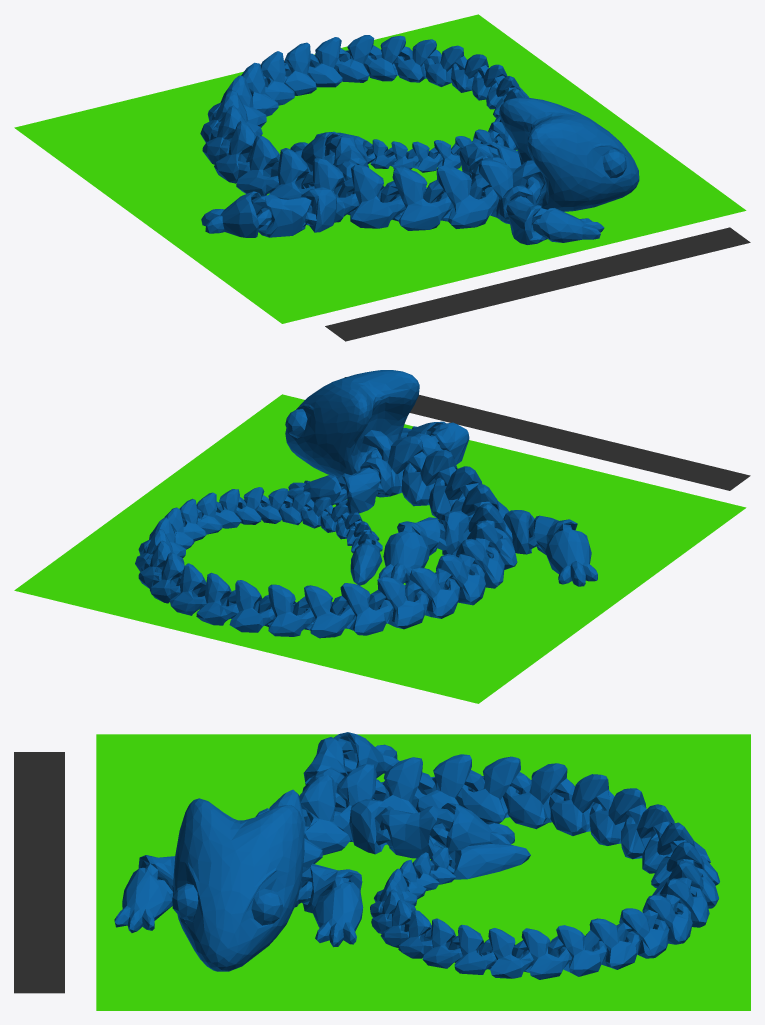
Rendered from BigGecko_X1.glb.
3 views of the same model, one above another, from view 1: azimuth 30°, elevation 25°; view 2: azimuth 150°, elevation 25°; view 3: azimuth 270°, elevation 25° (orthographic). The views are drawn at different scales.
Visible parts, largest first — view 1: Plane, DRAGON_001, Plane.001; view 2: Plane, DRAGON_001, Plane.001; view 3: Plane, DRAGON_001, Plane.001.
Part boxes in pixels (<box>): Plane: <box>14,14,746,323</box>; DRAGON_001: <box>200,35,639,244</box>; Plane.001: <box>325,227,750,341</box>; Plane: <box>14,394,746,703</box>; DRAGON_001: <box>135,370,597,638</box>; Plane.001: <box>344,377,750,490</box>; Plane: <box>96,734,750,1010</box>; DRAGON_001: <box>114,732,719,979</box>; Plane.001: <box>14,752,64,993</box>.
Size of the model in its own units: 0.22 by 0.0425 by 0.2477.
